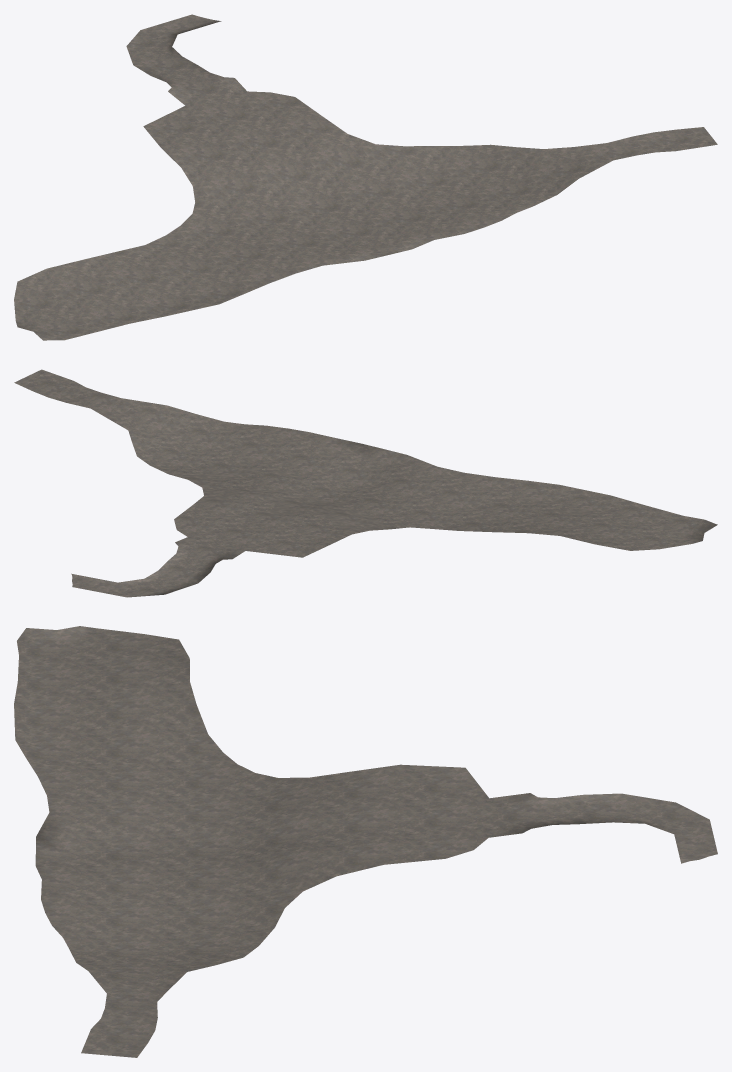
Rendered from EKH_ENTRANCE_PS_EN_OBJECT108.fbx.
3 views of the same model, one above another, from view 1: azimuth 30°, elevation 25°; view 2: azimuth 150°, elevation 25°; view 3: azimuth 270°, elevation 25° (orthographic). The views are drawn at different scales.
Visible parts, largest first — view 1: EKH_ENTRANCE_PS_EN_OBJECT108; view 2: EKH_ENTRANCE_PS_EN_OBJECT108; view 3: EKH_ENTRANCE_PS_EN_OBJECT108.
Part boxes in pixels (x1=…): EKH_ENTRANCE_PS_EN_OBJECT108: x1=14, y1=14, x2=717, y2=340; EKH_ENTRANCE_PS_EN_OBJECT108: x1=14, y1=369, x2=717, y2=597; EKH_ENTRANCE_PS_EN_OBJECT108: x1=14, y1=626, x2=717, y2=1057.
Size of the model in its own units: 598252 by 26699 by 398649.
Materials: 1 (1 with a texture image).
